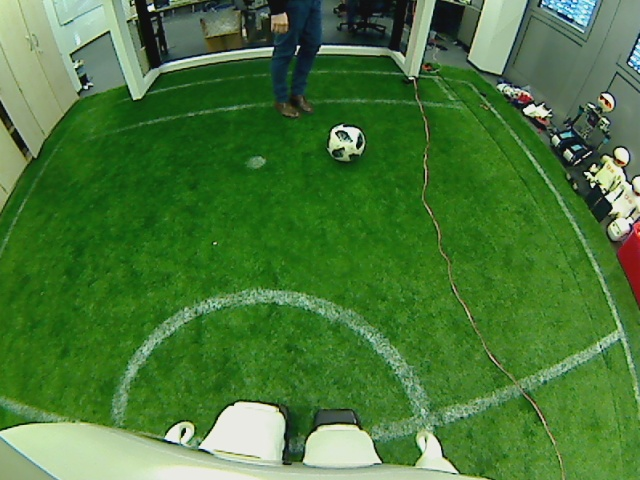ball: (327, 124, 366, 160)
